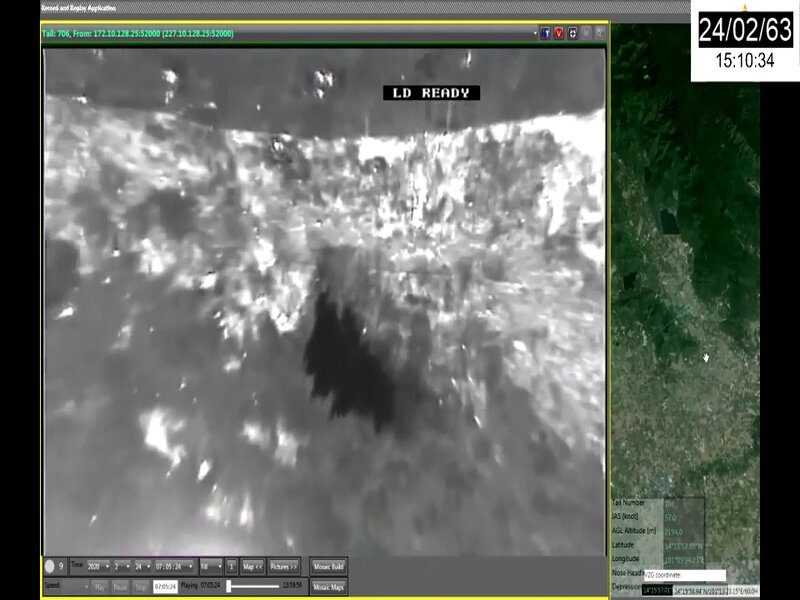Fire: (355, 107, 604, 273)
